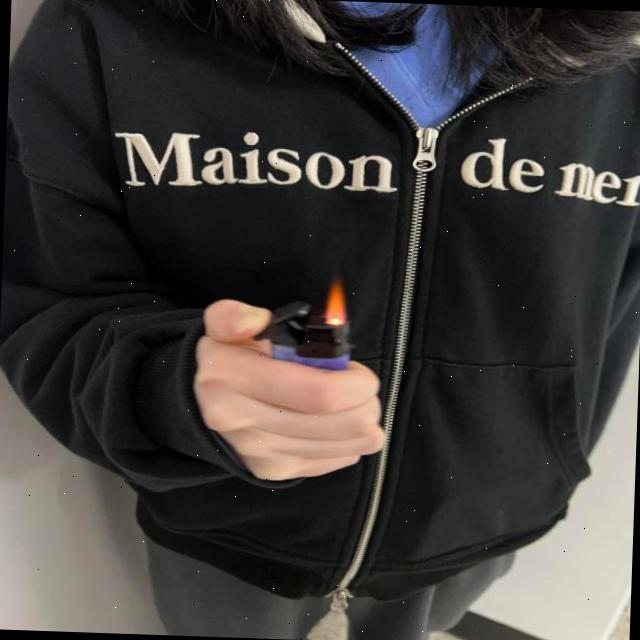fire: (323, 273, 348, 328)
